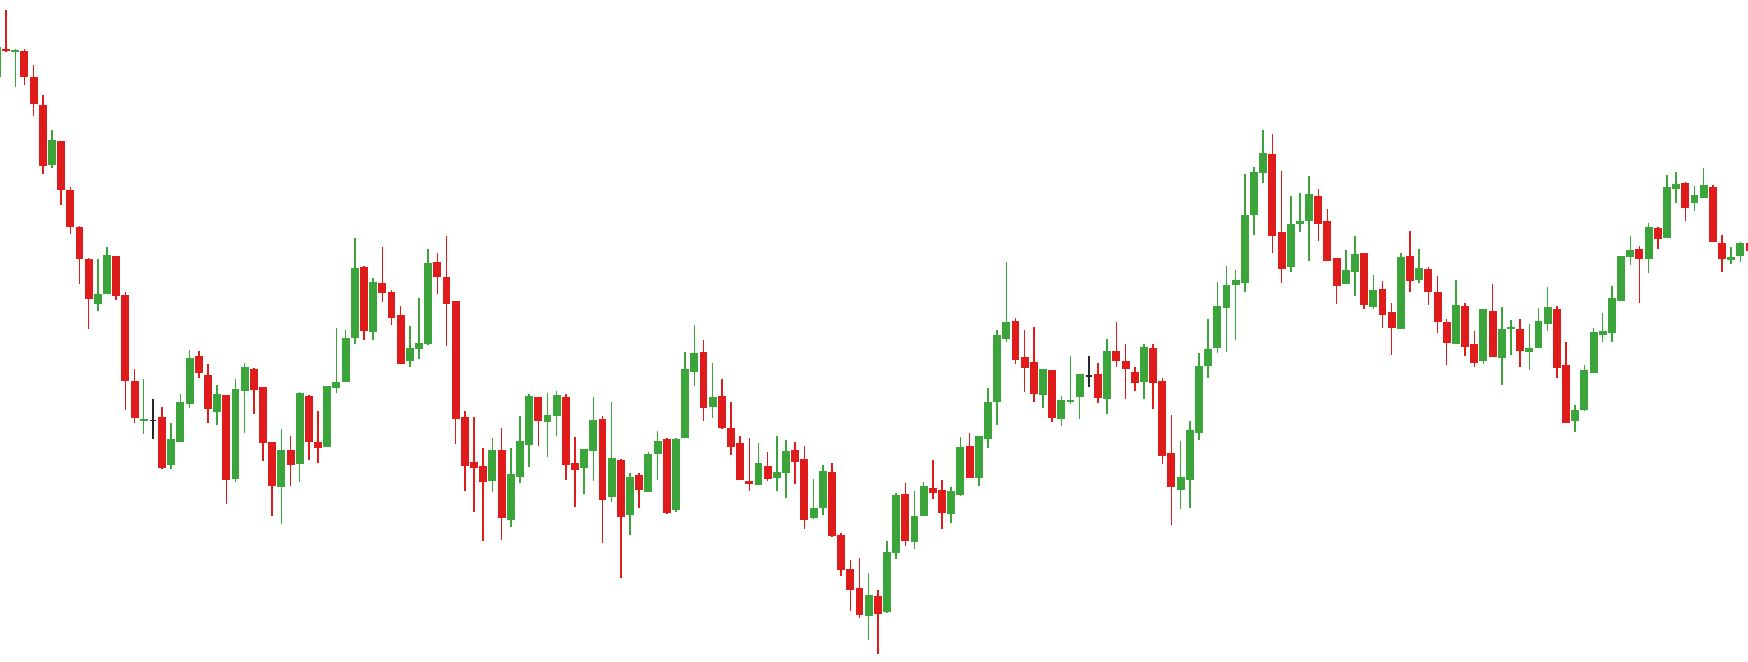buy: (1498, 296, 1592, 436), (220, 384, 288, 536)
sell: (377, 231, 453, 356)
